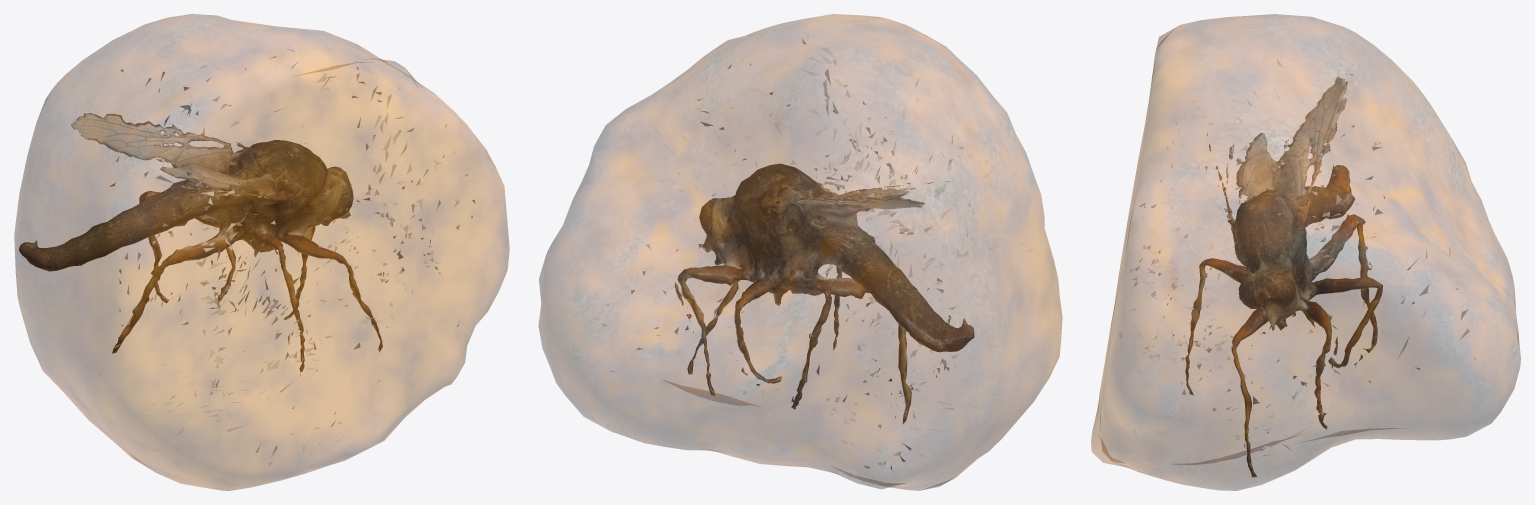
Rendered from mosquito-amber.glb.
The picture shows the model from 3 angles, left to right: view 1: azimuth 30°, elevation 25°; view 2: azimuth 150°, elevation 25°; view 3: azimuth 270°, elevation 25°; orthographic projection. The views are drawn at different scales.
Visible parts, largest first — view 1: 5_amber_lr_PBR_0, 2_mosquito_lr_original.o_material_0_0, 6_eclats_eclats_0; view 2: 5_amber_lr_PBR_0, 2_mosquito_lr_original.o_material_0_0, 6_eclats_eclats_0; view 3: 5_amber_lr_PBR_0, 2_mosquito_lr_original.o_material_0_0, 6_eclats_eclats_0.
Boxes of the visible parts, x1=… form: 5_amber_lr_PBR_0: x1=14, y1=14, x2=509, y2=490; 2_mosquito_lr_original.o_material_0_0: x1=19, y1=113, x2=382, y2=371; 6_eclats_eclats_0: x1=98, y1=49, x2=475, y2=465; 5_amber_lr_PBR_0: x1=538, y1=14, x2=1062, y2=490; 2_mosquito_lr_original.o_material_0_0: x1=674, y1=163, x2=974, y2=423; 6_eclats_eclats_0: x1=596, y1=35, x2=1036, y2=470; 5_amber_lr_PBR_0: x1=1091, y1=14, x2=1520, y2=490; 2_mosquito_lr_original.o_material_0_0: x1=1185, y1=76, x2=1382, y2=477; 6_eclats_eclats_0: x1=1109, y1=59, x2=1475, y2=456.
Bounding box in the file's own units: 0.0972 × 0.0997 × 0.0879.
Materials: 3 (2 with a texture image).
